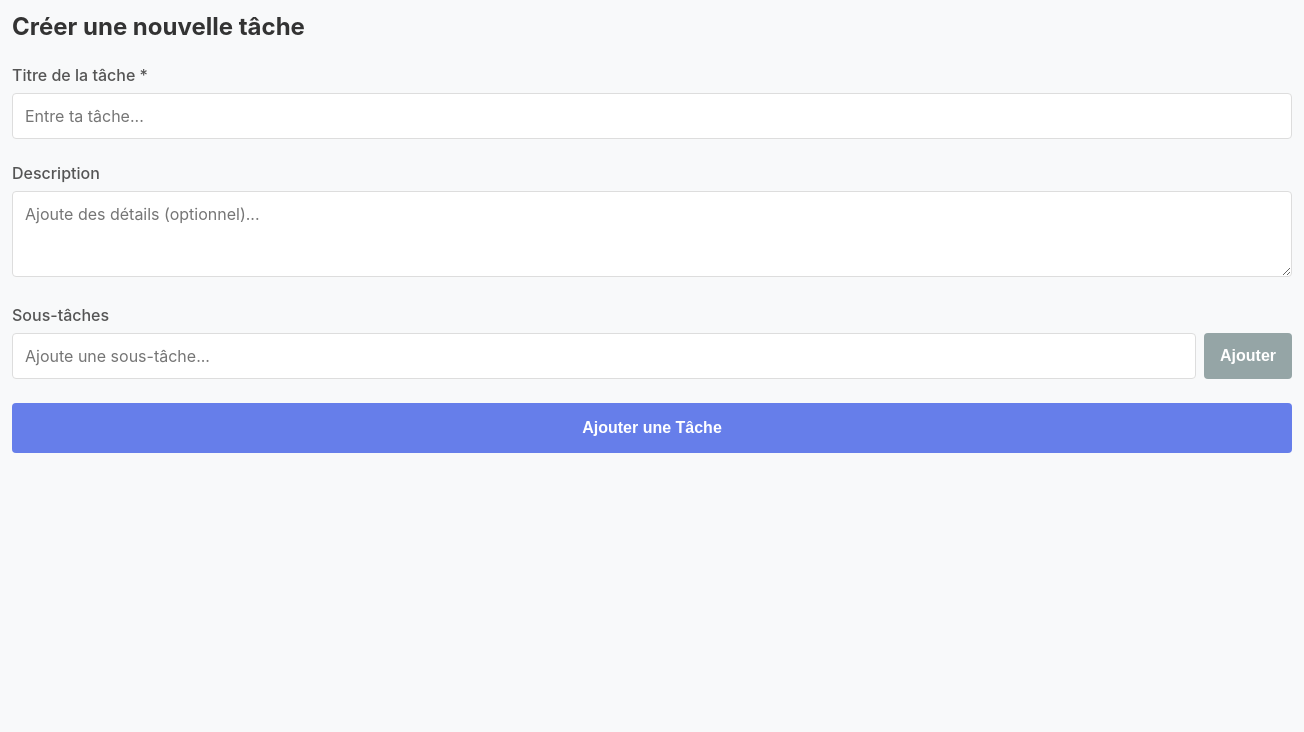
Test case: TaskForm Component › Subtasks Management › should add a subtask when clicking add button
Type "New Subtask" into the field with id "new-subtask" at (604, 356), box left=12, top=333, right=1196, bottom=379
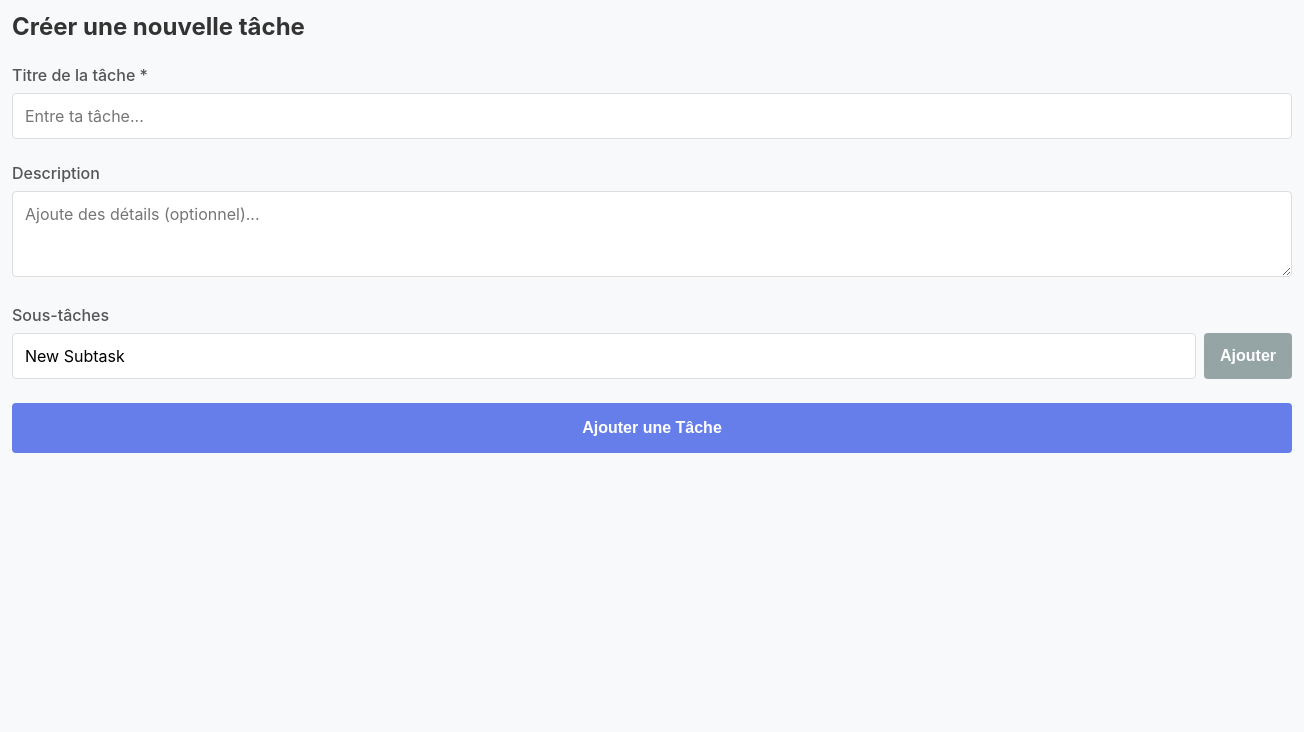
Click the button "Ajouter" at (1248, 356), box left=1204, top=333, right=1292, bottom=379
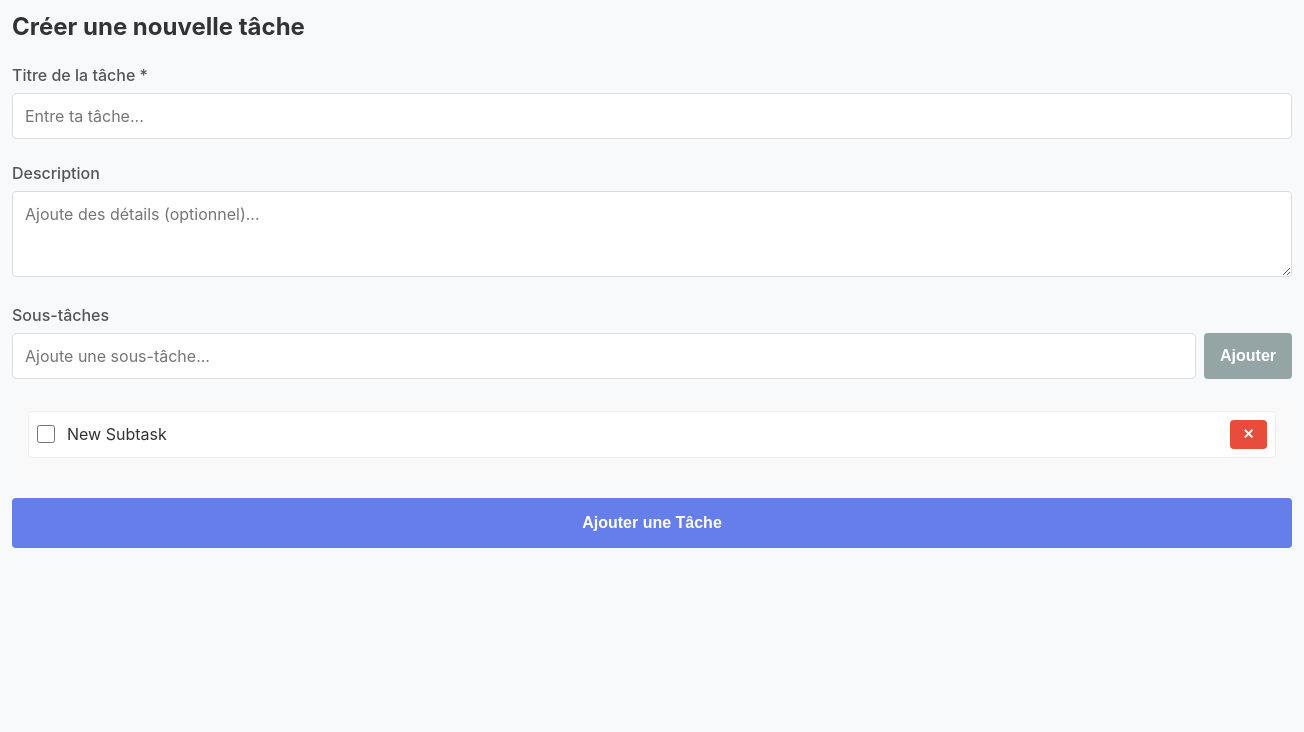
Result: the number of list items with class "subtask-item" is 1 at left=28, top=411, right=1276, bottom=458
